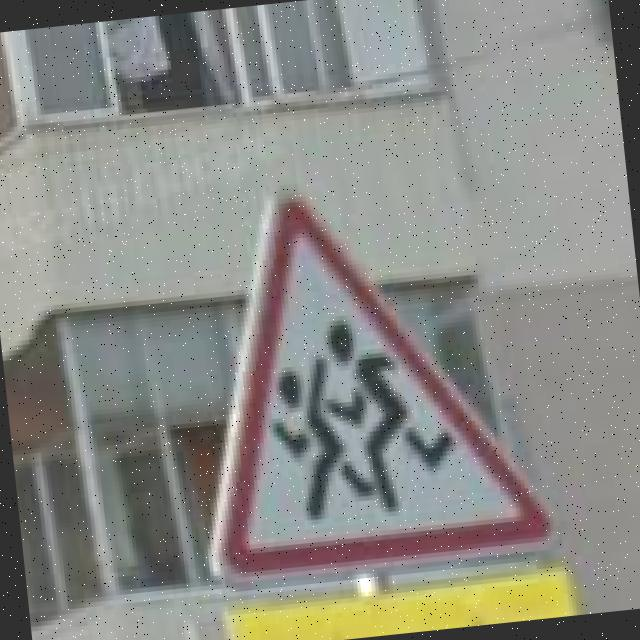Dzieci: (170, 160, 563, 590)
